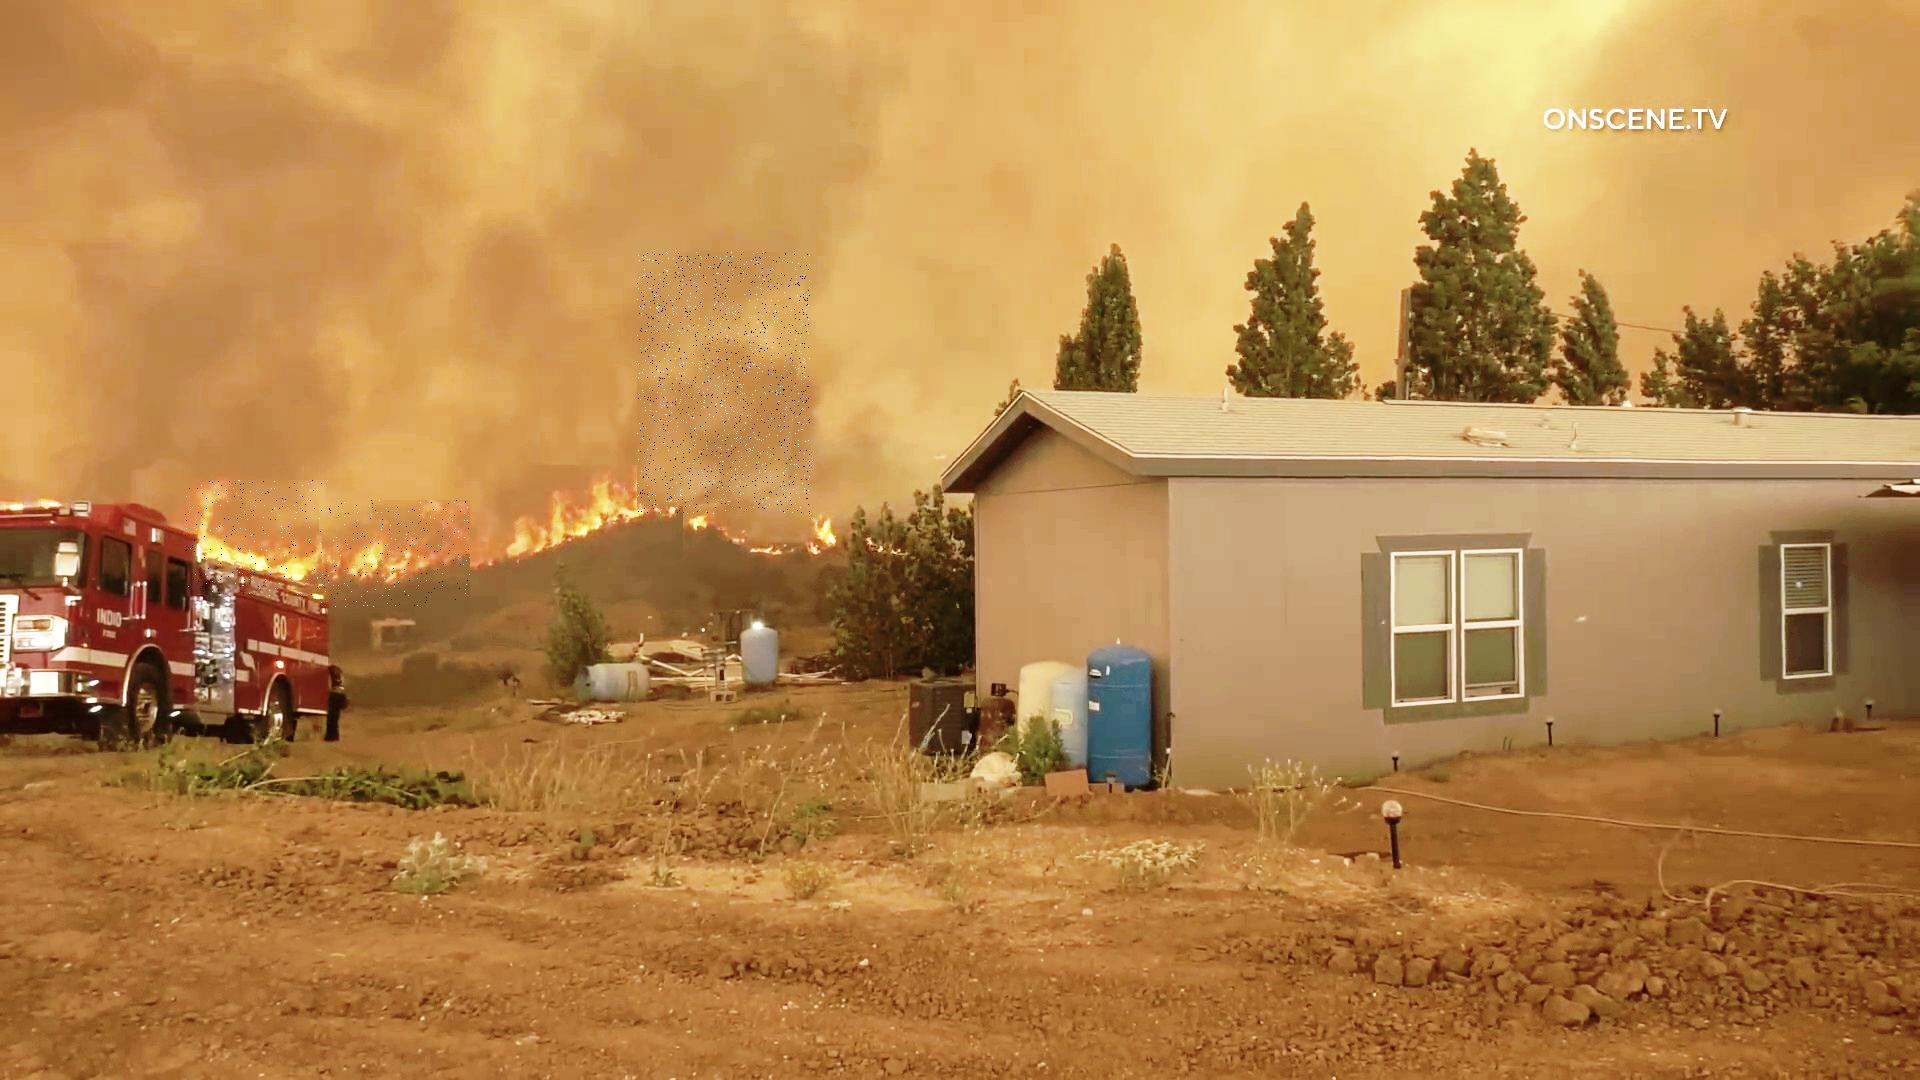fire: (520, 465, 683, 580), (186, 480, 328, 596), (322, 501, 471, 608)
smoke: (637, 253, 810, 514)
